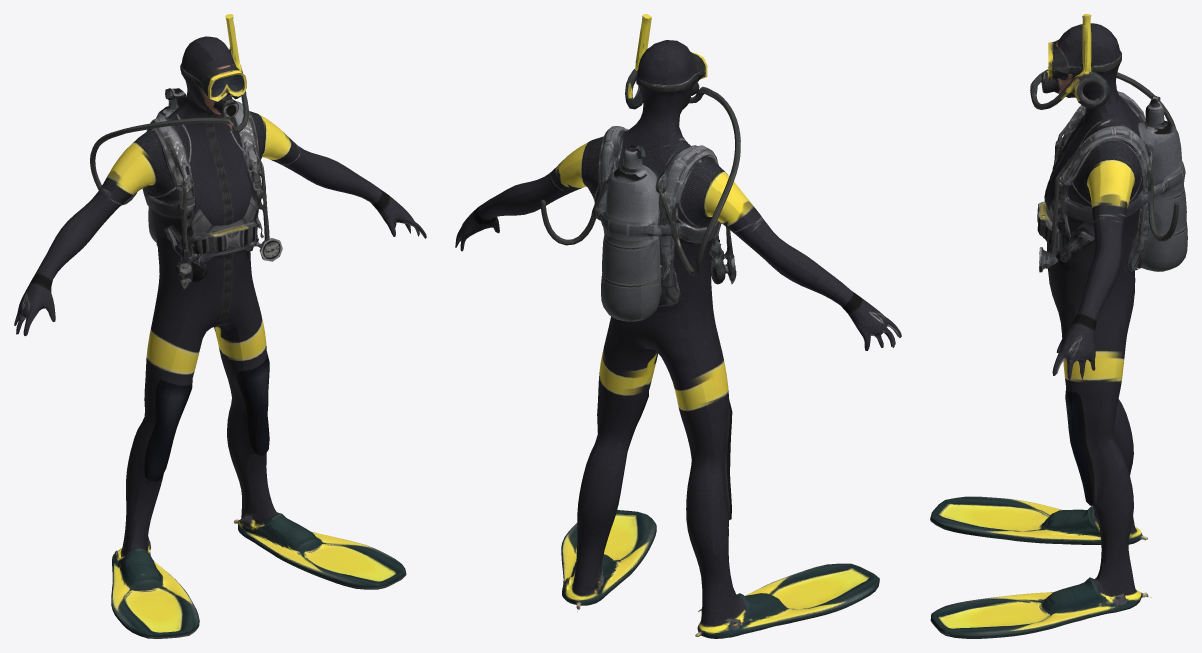
File: buzo.fbx
3 renders of one model, left to right at view 1: azimuth 30°, elevation 25°; view 2: azimuth 150°, elevation 25°; view 3: azimuth 270°, elevation 25°, orthographic. The views are drawn at different scales.
Parts seen in each view (by area): view 1: Mesh0; view 2: Mesh0; view 3: Mesh0.
Part boxes in pixels (x1=…): Mesh0: x1=14, y1=14, x2=426, y2=638; Mesh0: x1=455, y1=14, x2=901, y2=638; Mesh0: x1=930, y1=14, x2=1187, y2=638.
Size of the model in its own units: 148 by 189 by 78.06.
